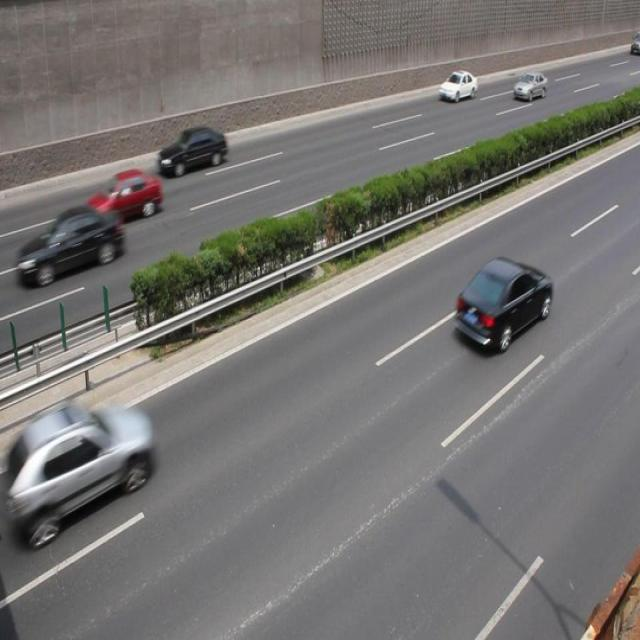car: (40, 402, 148, 530), (453, 255, 551, 354), (29, 206, 124, 286), (83, 170, 162, 226), (157, 128, 227, 178), (438, 70, 476, 102), (512, 73, 547, 102)
